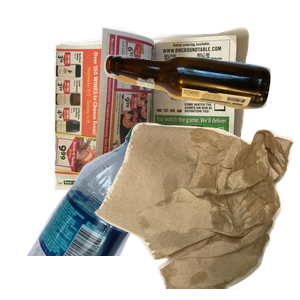glass: (101, 52, 300, 154)
paper: (51, 24, 291, 204)
plastic: (24, 120, 182, 300)
trash: (92, 120, 300, 300)
